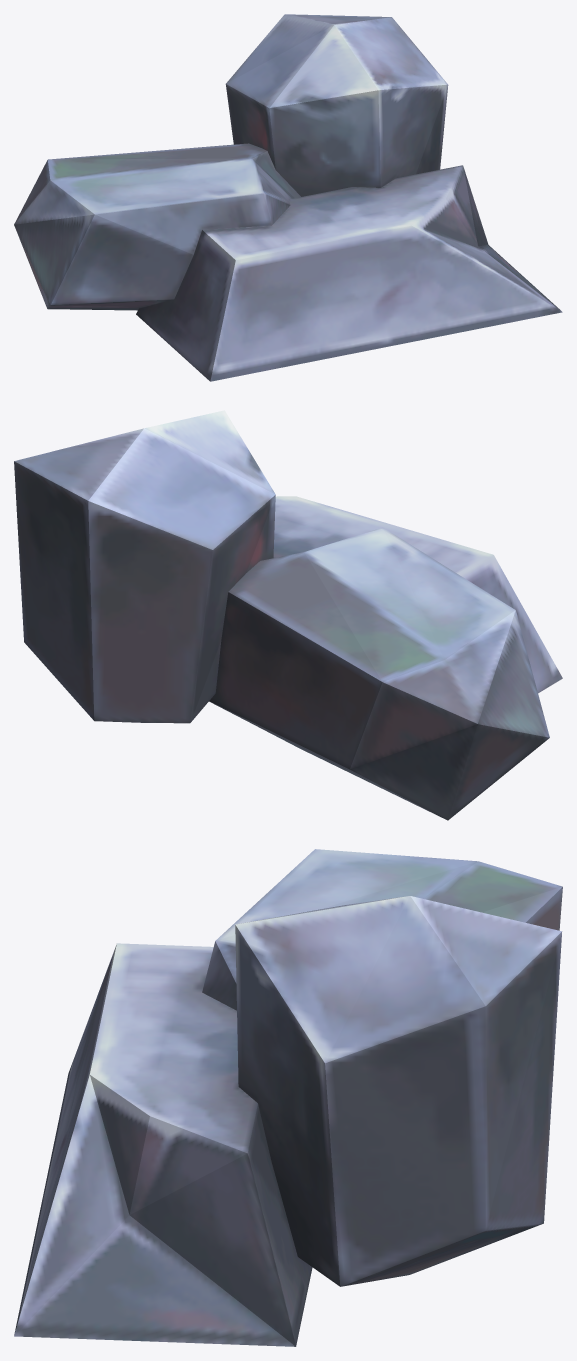
Rendered from Metal.FBX.
3 views of the same model, one above another, from view 1: azimuth 30°, elevation 25°; view 2: azimuth 150°, elevation 25°; view 3: azimuth 270°, elevation 25° (orthographic). The views are drawn at different scales.
Parts seen in each view (by area): view 1: tiekuang_01; view 2: tiekuang_01; view 3: tiekuang_01.
Part boxes in pixels (x1,y1,x2,y2): tiekuang_01: (14, 14, 562, 381); tiekuang_01: (14, 410, 562, 820); tiekuang_01: (14, 849, 562, 1346).
Size of the model in its own units: 46.13 by 25.67 by 32.22.
